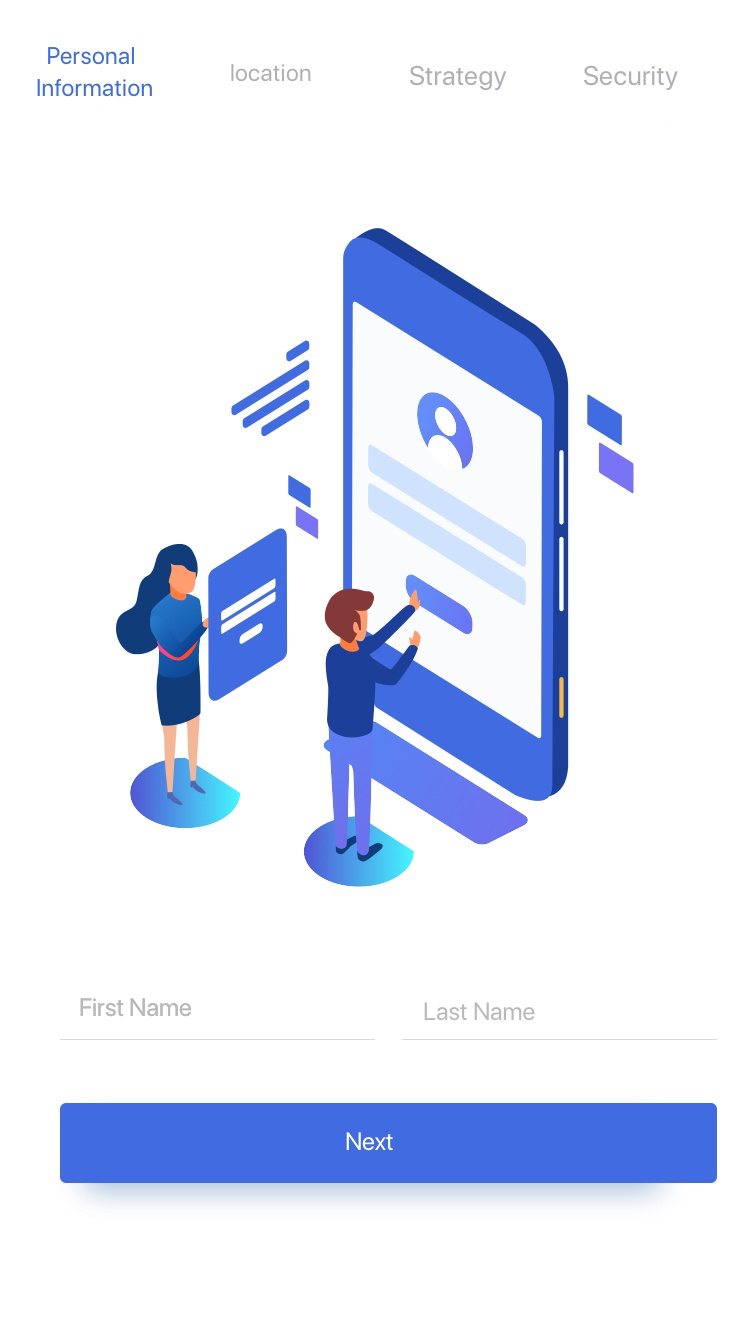EditText: (60, 997, 376, 1041), (402, 1001, 718, 1041)
Image: (116, 227, 635, 889)
Text: (37, 47, 154, 98), (410, 66, 507, 92), (583, 66, 679, 92), (80, 997, 192, 1017), (424, 1002, 535, 1021), (231, 64, 312, 83)
TextButton: (60, 1103, 718, 1184)
